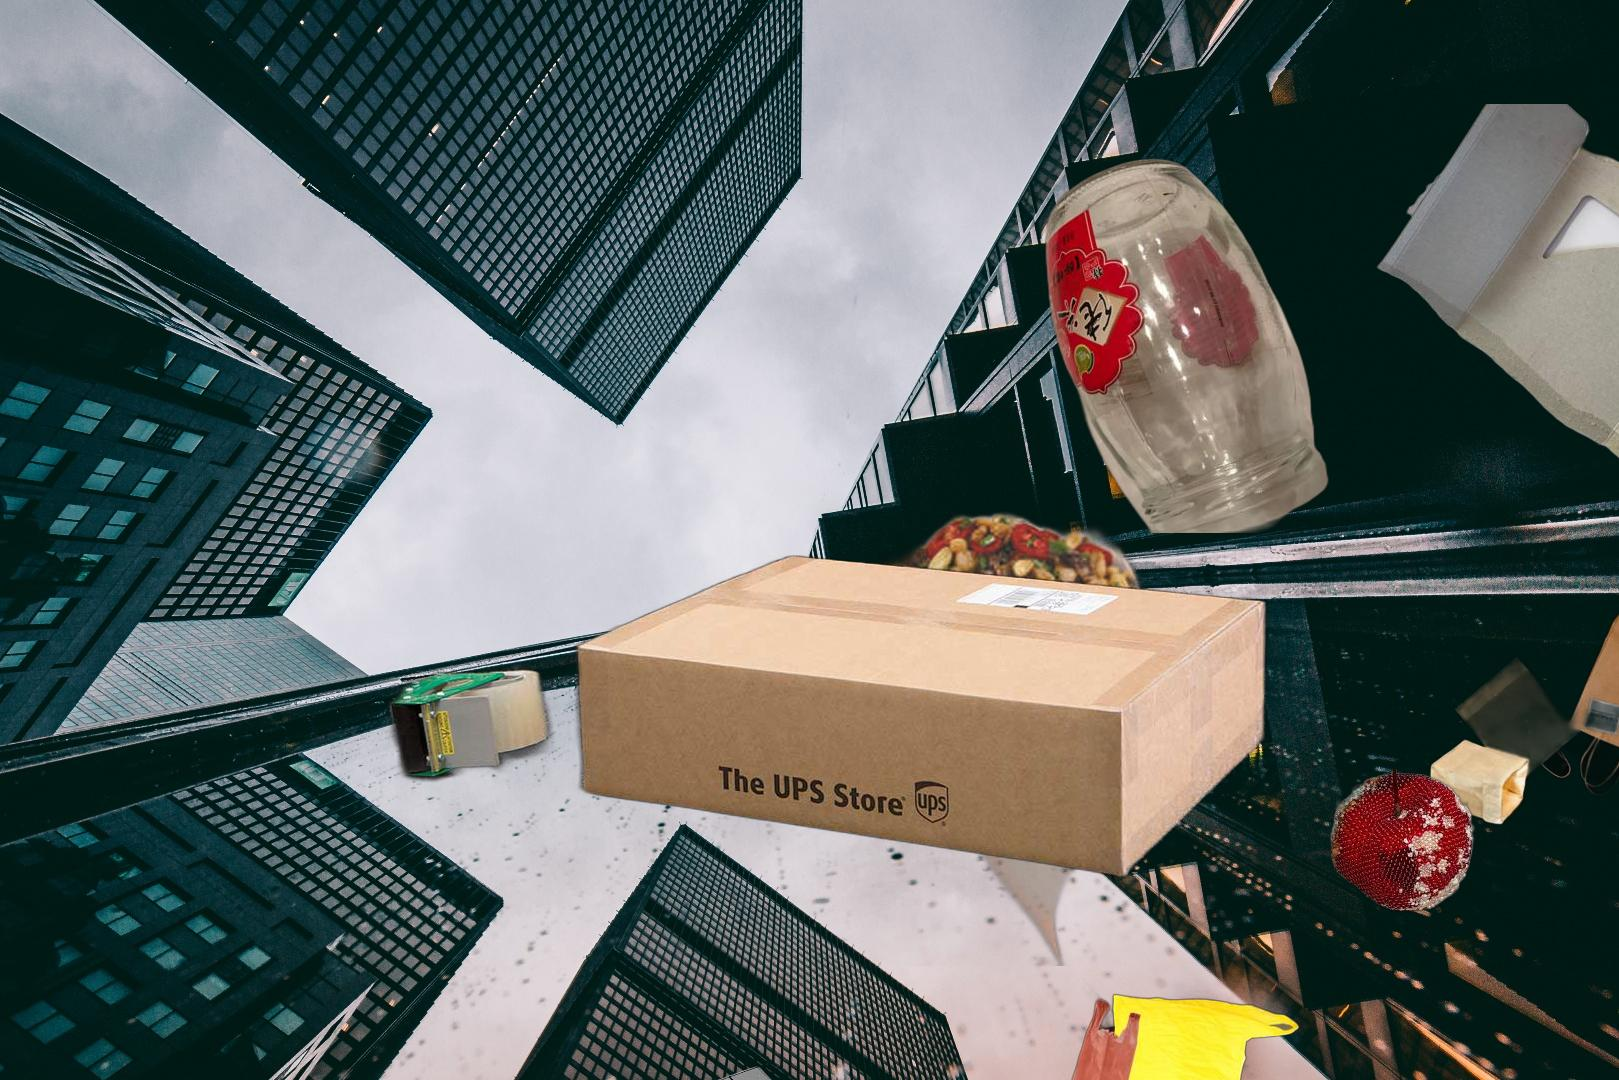battery: (658, 1064, 860, 1080)
biological: (633, 468, 1212, 965), (1246, 769, 1480, 946)
glass: (1042, 155, 1334, 533)
paper: (1373, 104, 1619, 488)
paper-bag: (1418, 569, 1619, 832)
plastic-bag: (1061, 978, 1304, 1080)
trashbox-cardboard: (340, 551, 1278, 882)
